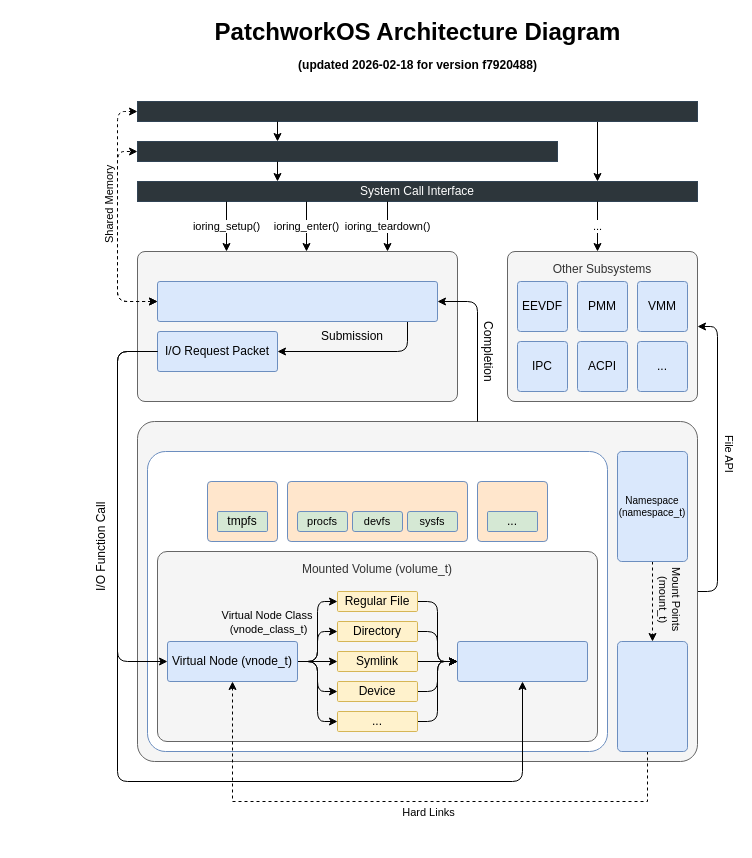
Image size: 752x858. Some labels were removed from this diagram. Here are the shapes that lost their labels. From the top down, the box of each, then its label:
(136, 100, 698, 122): User
(136, 140, 558, 162): Standard Library (libc)
(156, 280, 438, 322): I/O Ring
(136, 250, 458, 402): I/O Subsystem
(206, 480, 278, 542): Special FS
(286, 480, 468, 542): Core FS
(476, 480, 548, 542): Other FS
(146, 450, 608, 752): Filesystems (filesystem_t)
(136, 420, 698, 762): Virtual File System
(456, 640, 588, 682): File Object (file_t)
(616, 640, 688, 752): Dentry Cache (dentry_t)
